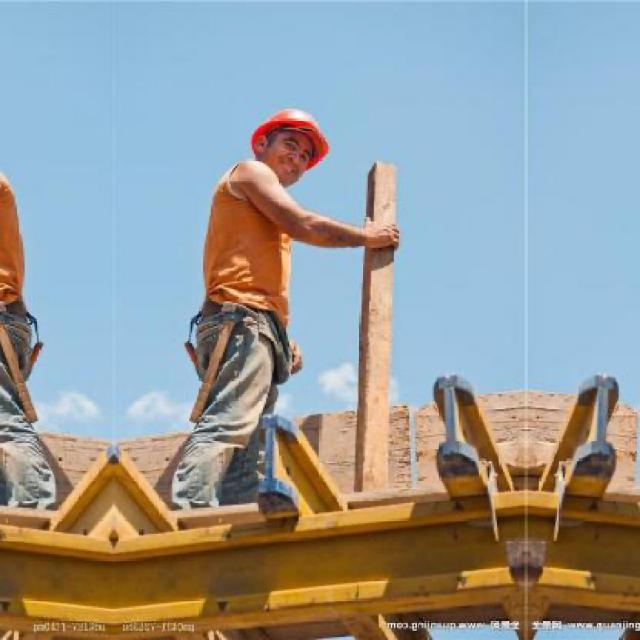helmet: (237, 95, 343, 194)
